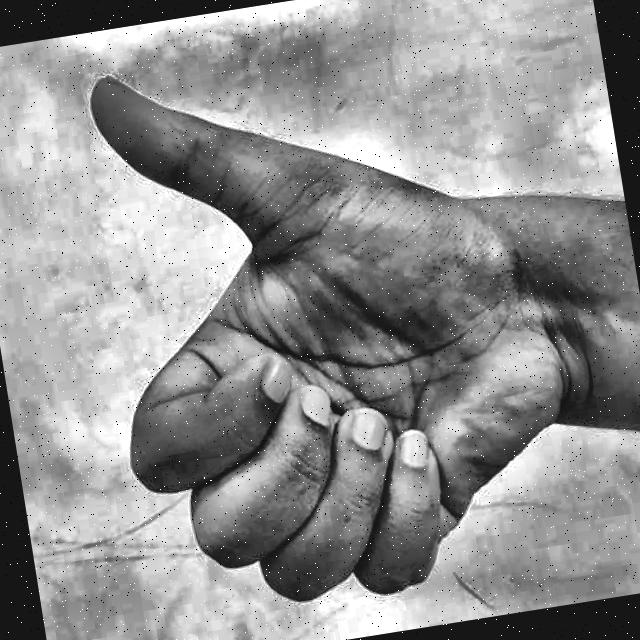Do: (28, 4, 591, 640)
